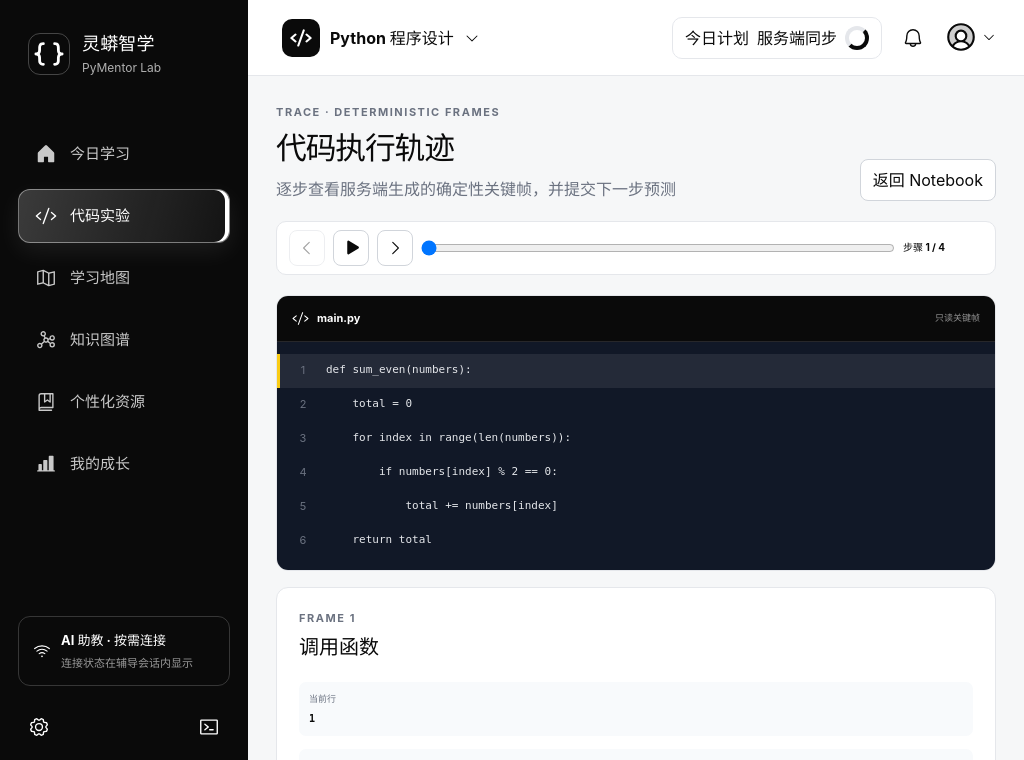
Scenario: trace playback › steps through deterministic frames and records a prediction
Expected: the heading "代码执行轨迹" is shown, [276,128,454,166]
Expected: the message named "当前轨迹步骤" reads "步骤 1 / 4", [903,241,945,253]
Click the button named "下一步" at (395, 248), box [377,230,413,266]
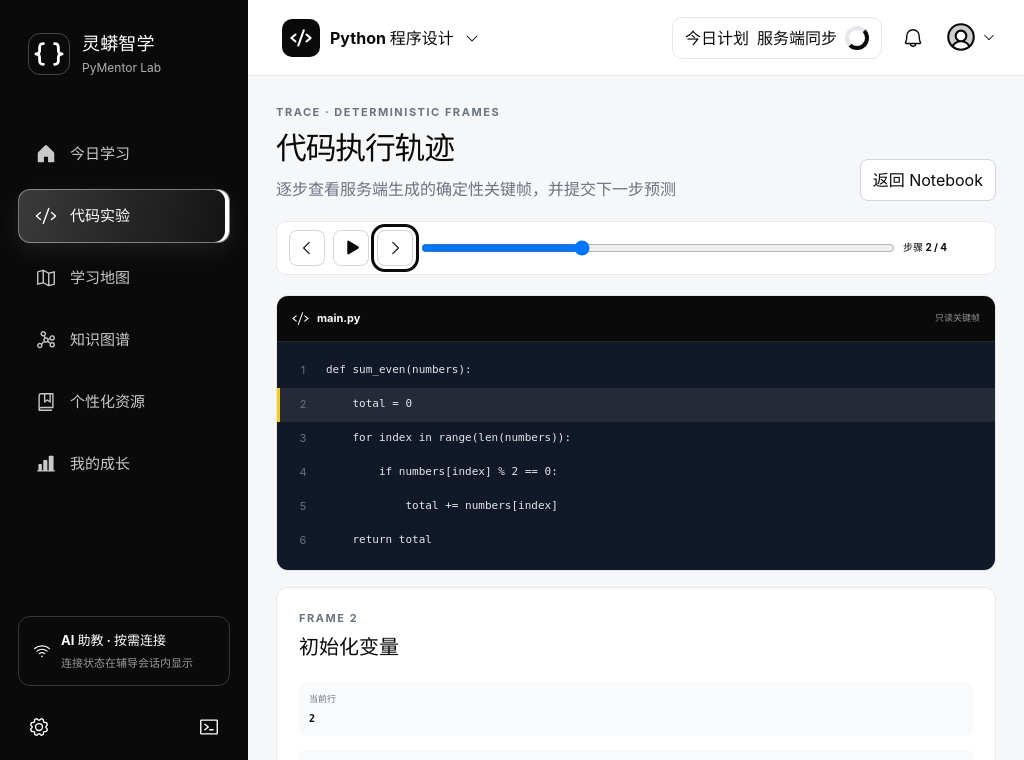
Now the message named "当前轨迹步骤" reads "步骤 2 / 4", box [903,241,947,253]
Click the button named "播放轨迹" at (351, 248), box [333,230,369,266]
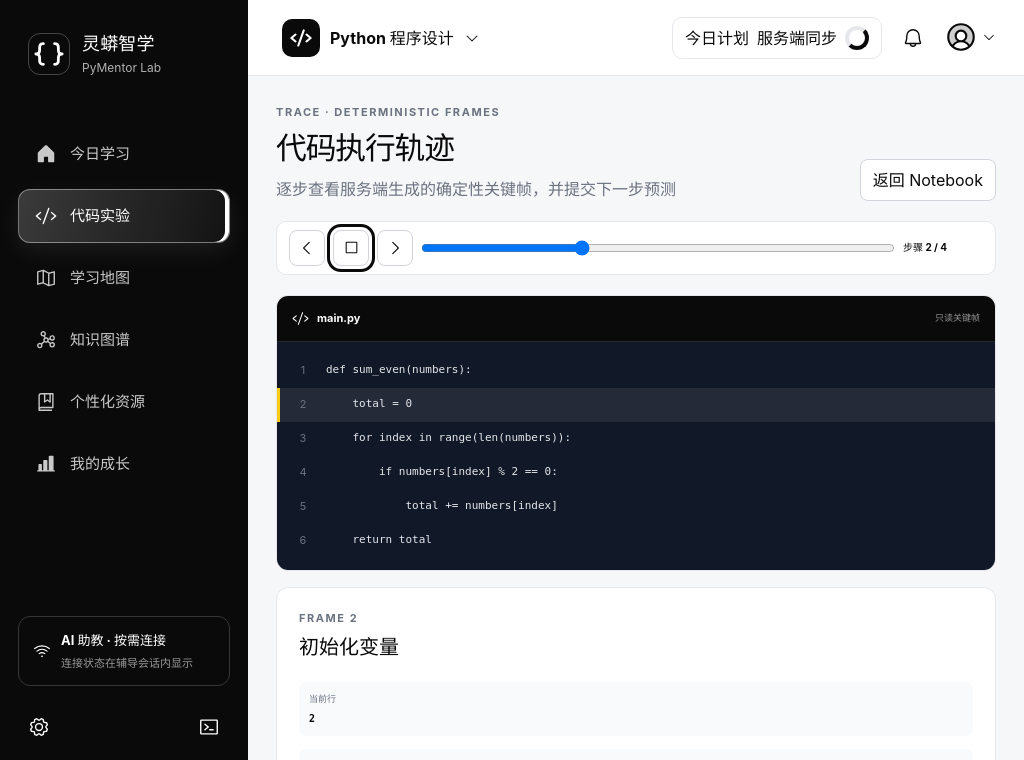
Now the button named "暂停播放" is shown
Click the button named "暂停播放" at (351, 248), box [333,230,369,266]
(page scrolled)
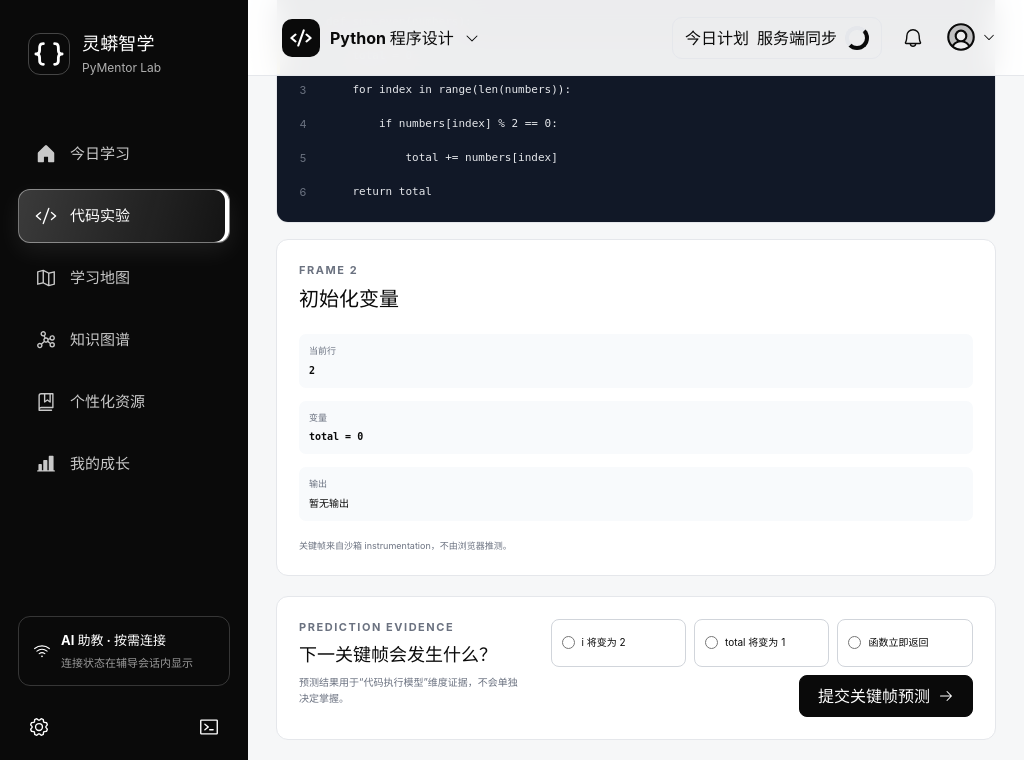
Click the radio button labelled "i 将变为 2" at (568, 643), box [562,636,574,650]
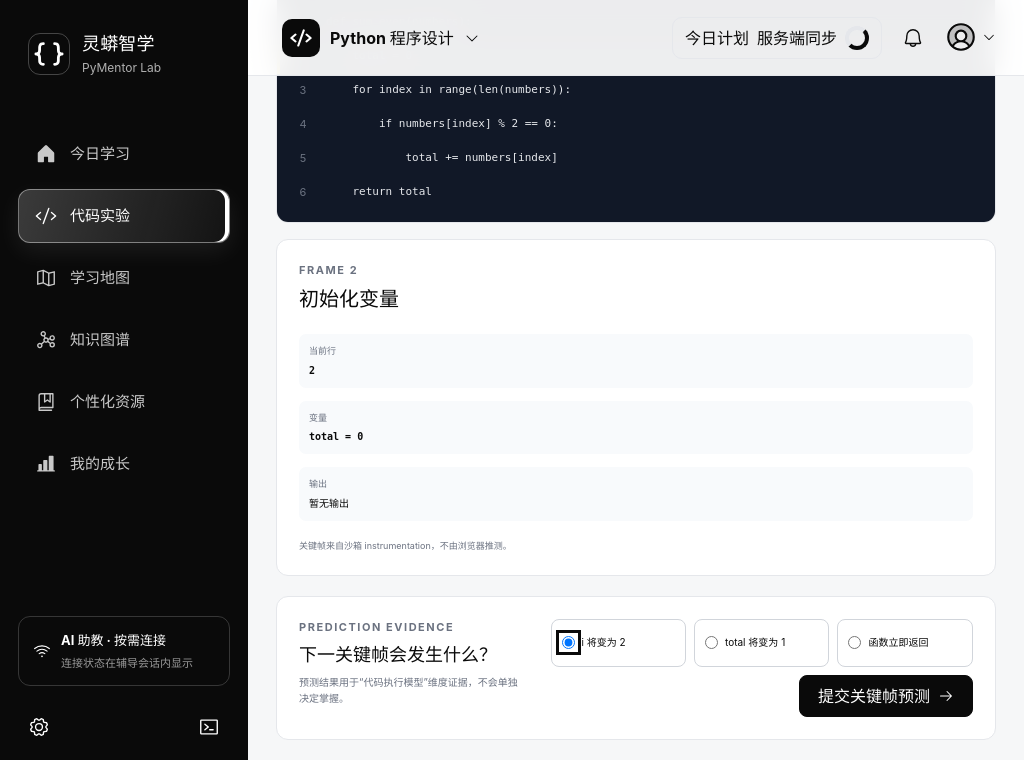
Click the button "提交关键帧预测" at (886, 696), box [799,675,973,717]
(page scrolled)
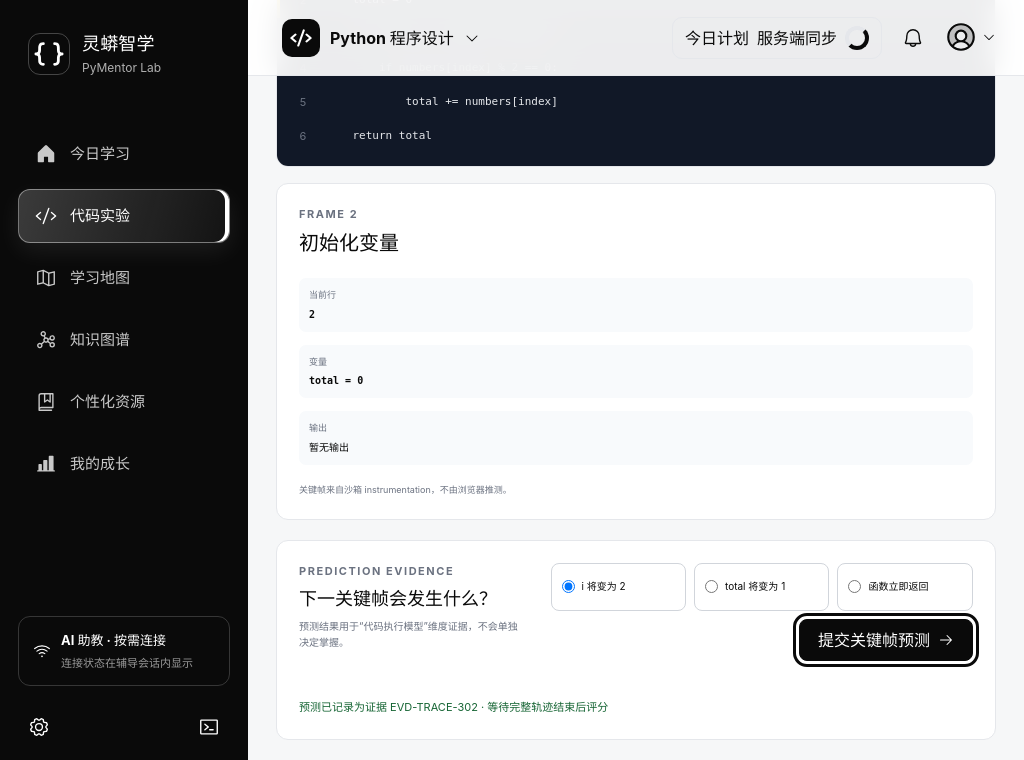
Now the message named "预测证据状态" shows "预测已记录为证据 EVD-TRACE-302", box [299,700,608,714]
